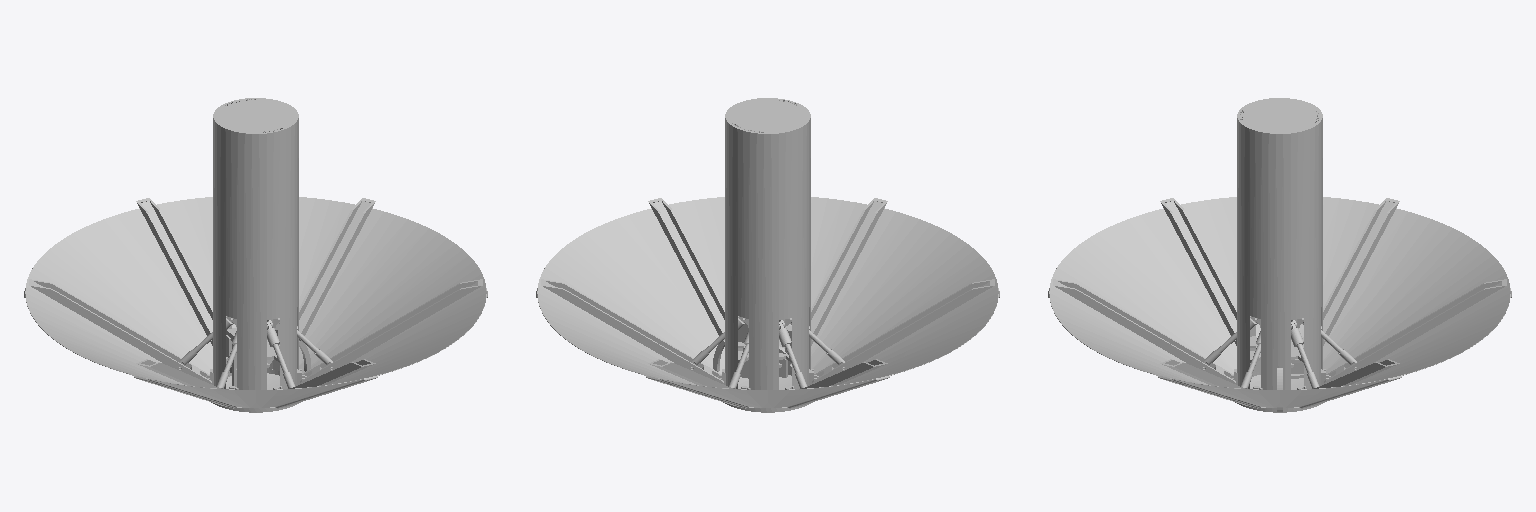
The model's file is Probe.obj.
3 renders of one model, left to right at view 1: azimuth 30°, elevation 25°; view 2: azimuth 150°, elevation 25°; view 3: azimuth 270°, elevation 25°, orthographic.
Parts seen in each view (by area): view 1: Solid1:29, Solid1:33, Solid1:8, Solid1:20, Solid1:4, Solid1:24, Solid1:12, Solid1:16, Solid1; view 2: Solid1:29, Solid1:33, Solid1:12, Solid1:24, Solid1:16, Solid1:20, Solid1:4, Solid1:8; view 3: Solid1:29, Solid1:33, Solid1:4, Solid1:16, Solid1:8, Solid1:12, Solid1:20, Solid1:24, Solid1.
Boxes of the visible parts, x1=… form: Solid1:29: x1=24, y1=197, x2=487, y2=408; Solid1:33: x1=213, y1=98, x2=298, y2=389; Solid1:8: x1=29, y1=279, x2=211, y2=383; Solid1:20: x1=300, y1=279, x2=482, y2=383; Solid1:4: x1=136, y1=198, x2=212, y2=345; Solid1:24: x1=299, y1=198, x2=375, y2=335; Solid1:12: x1=136, y1=359, x2=220, y2=388; Solid1:16: x1=291, y1=359, x2=375, y2=388; Solid1: x1=205, y1=359, x2=306, y2=412; Solid1:29: x1=536, y1=197, x2=999, y2=408; Solid1:33: x1=725, y1=98, x2=810, y2=389; Solid1:12: x1=812, y1=279, x2=994, y2=383; Solid1:24: x1=541, y1=279, x2=723, y2=383; Solid1:16: x1=811, y1=198, x2=887, y2=345; Solid1:20: x1=648, y1=198, x2=724, y2=335; Solid1:4: x1=648, y1=359, x2=732, y2=388; Solid1:8: x1=803, y1=359, x2=887, y2=388; Solid1:29: x1=1048, y1=197, x2=1511, y2=408; Solid1:33: x1=1237, y1=98, x2=1322, y2=389; Solid1:4: x1=1324, y1=279, x2=1506, y2=383; Solid1:16: x1=1053, y1=279, x2=1235, y2=383; Solid1:8: x1=1323, y1=198, x2=1399, y2=345; Solid1:12: x1=1160, y1=198, x2=1236, y2=345; Solid1:20: x1=1160, y1=359, x2=1244, y2=388; Solid1:24: x1=1315, y1=359, x2=1399, y2=388; Solid1: x1=1229, y1=360, x2=1330, y2=412.
Bounding box in the file's own units: 432 × 289 × 433.